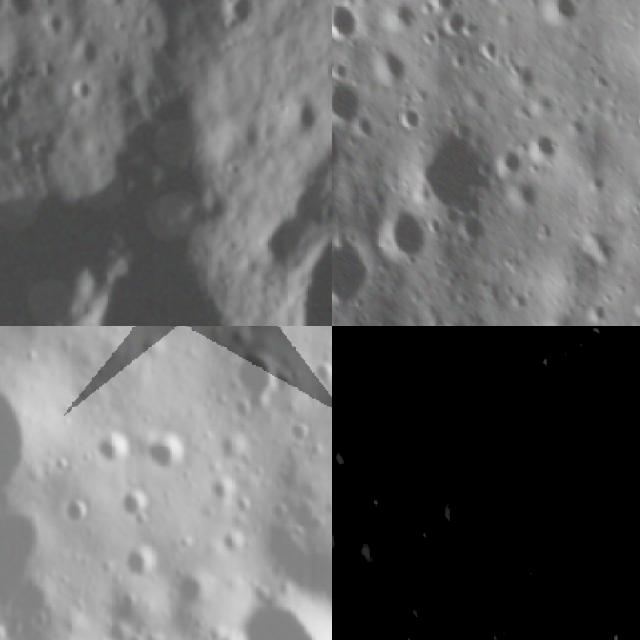crater: (35, 231, 296, 326), (0, 161, 130, 326), (406, 124, 511, 220), (0, 358, 40, 511), (342, 516, 416, 592), (237, 585, 332, 640), (332, 334, 398, 405), (376, 202, 444, 268), (276, 90, 332, 154), (332, 233, 376, 309), (233, 349, 284, 407), (216, 0, 273, 44), (58, 32, 111, 79), (56, 69, 105, 115), (138, 431, 190, 474), (332, 511, 367, 570), (368, 45, 412, 89), (117, 480, 155, 528), (537, 0, 588, 34), (174, 571, 212, 616), (332, 0, 367, 44), (0, 0, 45, 34), (0, 81, 33, 127), (332, 75, 363, 122), (404, 592, 441, 630), (488, 326, 554, 346), (125, 542, 156, 580), (95, 432, 128, 467), (210, 474, 239, 504), (308, 357, 332, 393), (222, 531, 252, 559), (222, 435, 250, 464), (332, 326, 379, 342), (393, 622, 433, 640), (421, 0, 464, 16), (62, 502, 89, 525), (210, 625, 247, 640), (289, 423, 311, 447)
